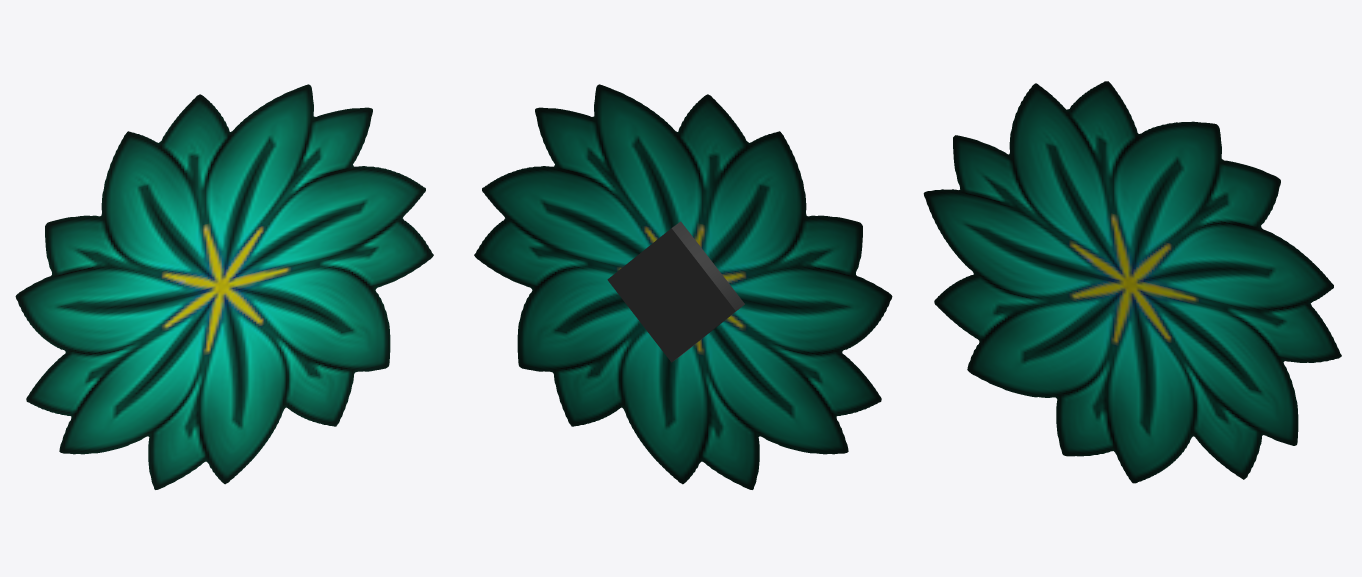
File: Magnet_F.FBX
3 views of the same model, side by side, from view 1: azimuth 30°, elevation 25°; view 2: azimuth 150°, elevation 25°; view 3: azimuth 330°, elevation 25° (orthographic).
Parts seen in each view (by area): view 1: Fridge_Magnet; view 2: Fridge_Magnet; view 3: Fridge_Magnet.
Boxes of the visible parts, bbox=[...] form: Fridge_Magnet: bbox=[15, 84, 433, 489]; Fridge_Magnet: bbox=[474, 84, 892, 489]; Fridge_Magnet: bbox=[923, 81, 1341, 483].
Bounding box in the file's own units: 25 × 25 × 0.9737.
